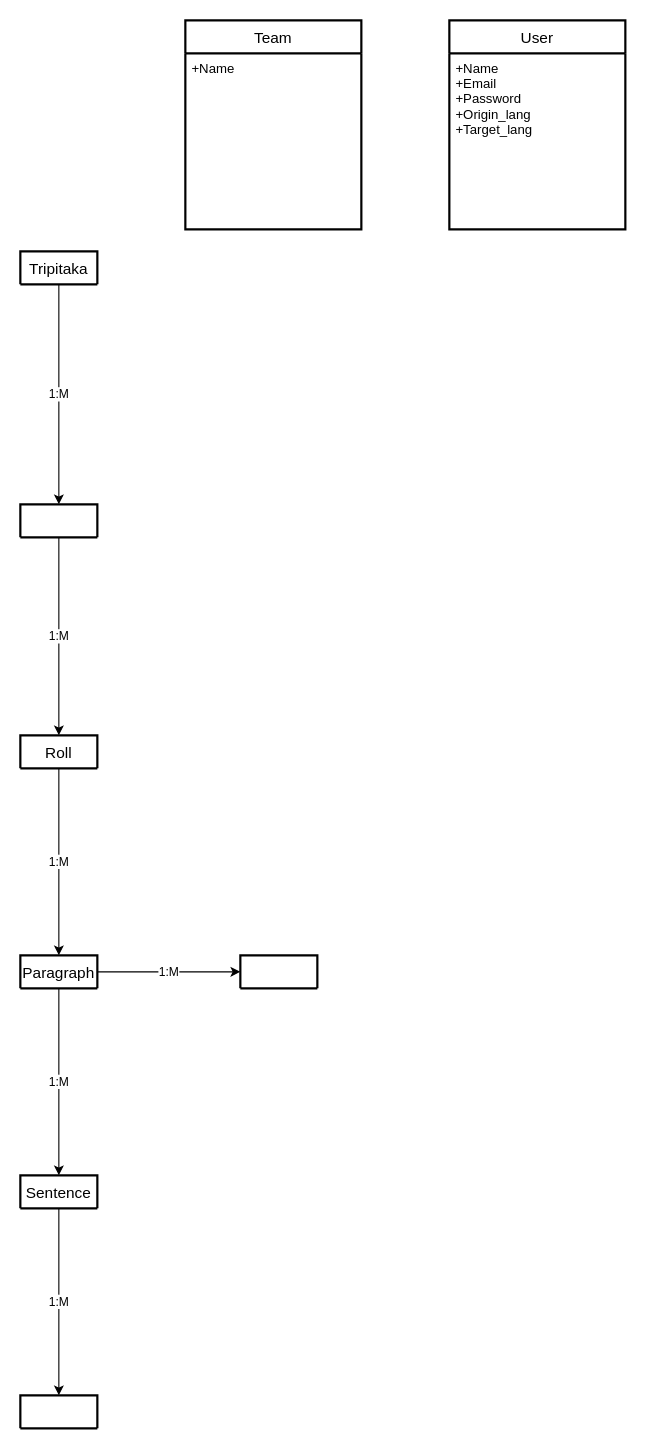
The diagram is 645 pixels wide and 1448 high, and some of its shapes have lost their labels. The centre of each missing label's shape, as x and y in pixels:
"Comment" belongs at point 278,971.
"Footnote" belongs at point 58,1411.
"Sutra" belongs at point 58,520.
